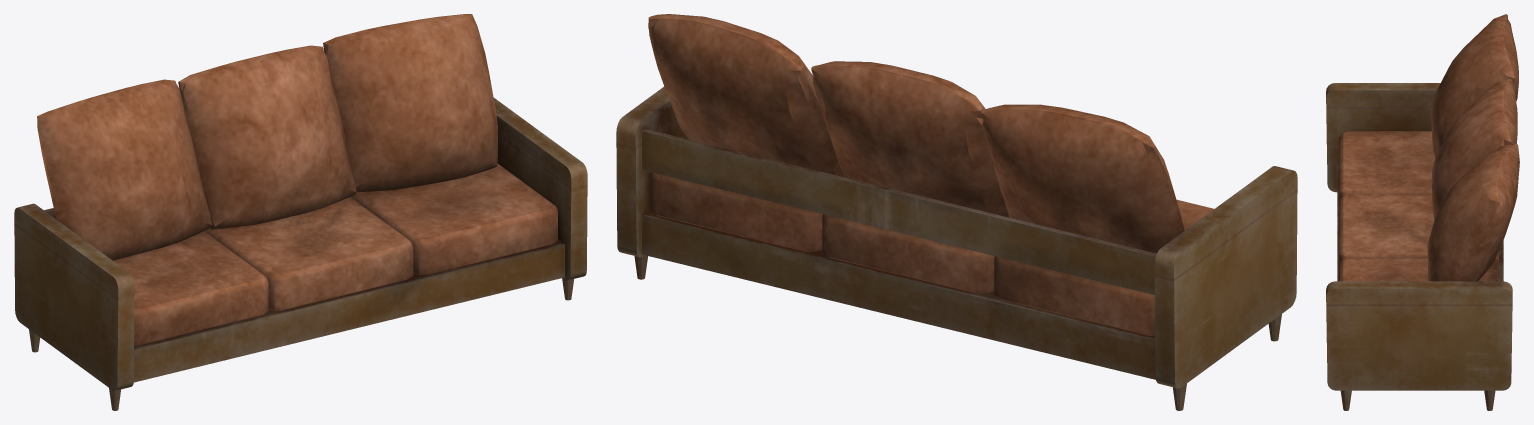
Rendered from sb_obj_indoor037_sofa.fbx.
3 renders of one model, left to right at view 1: azimuth 30°, elevation 25°; view 2: azimuth 150°, elevation 25°; view 3: azimuth 270°, elevation 25°, orthographic. The views are drawn at different scales.
Parts seen in each view (by area): view 1: sb_obj_indoor037_sofa; view 2: sb_obj_indoor037_sofa; view 3: sb_obj_indoor037_sofa.
Part boxes in pixels (left/top/right/bottom): sb_obj_indoor037_sofa: left=14, top=14, right=587, bottom=410; sb_obj_indoor037_sofa: left=616, top=14, right=1297, bottom=410; sb_obj_indoor037_sofa: left=1326, top=14, right=1519, bottom=410.
Size of the model in its own units: 2.08 by 0.9837 by 0.8271.
